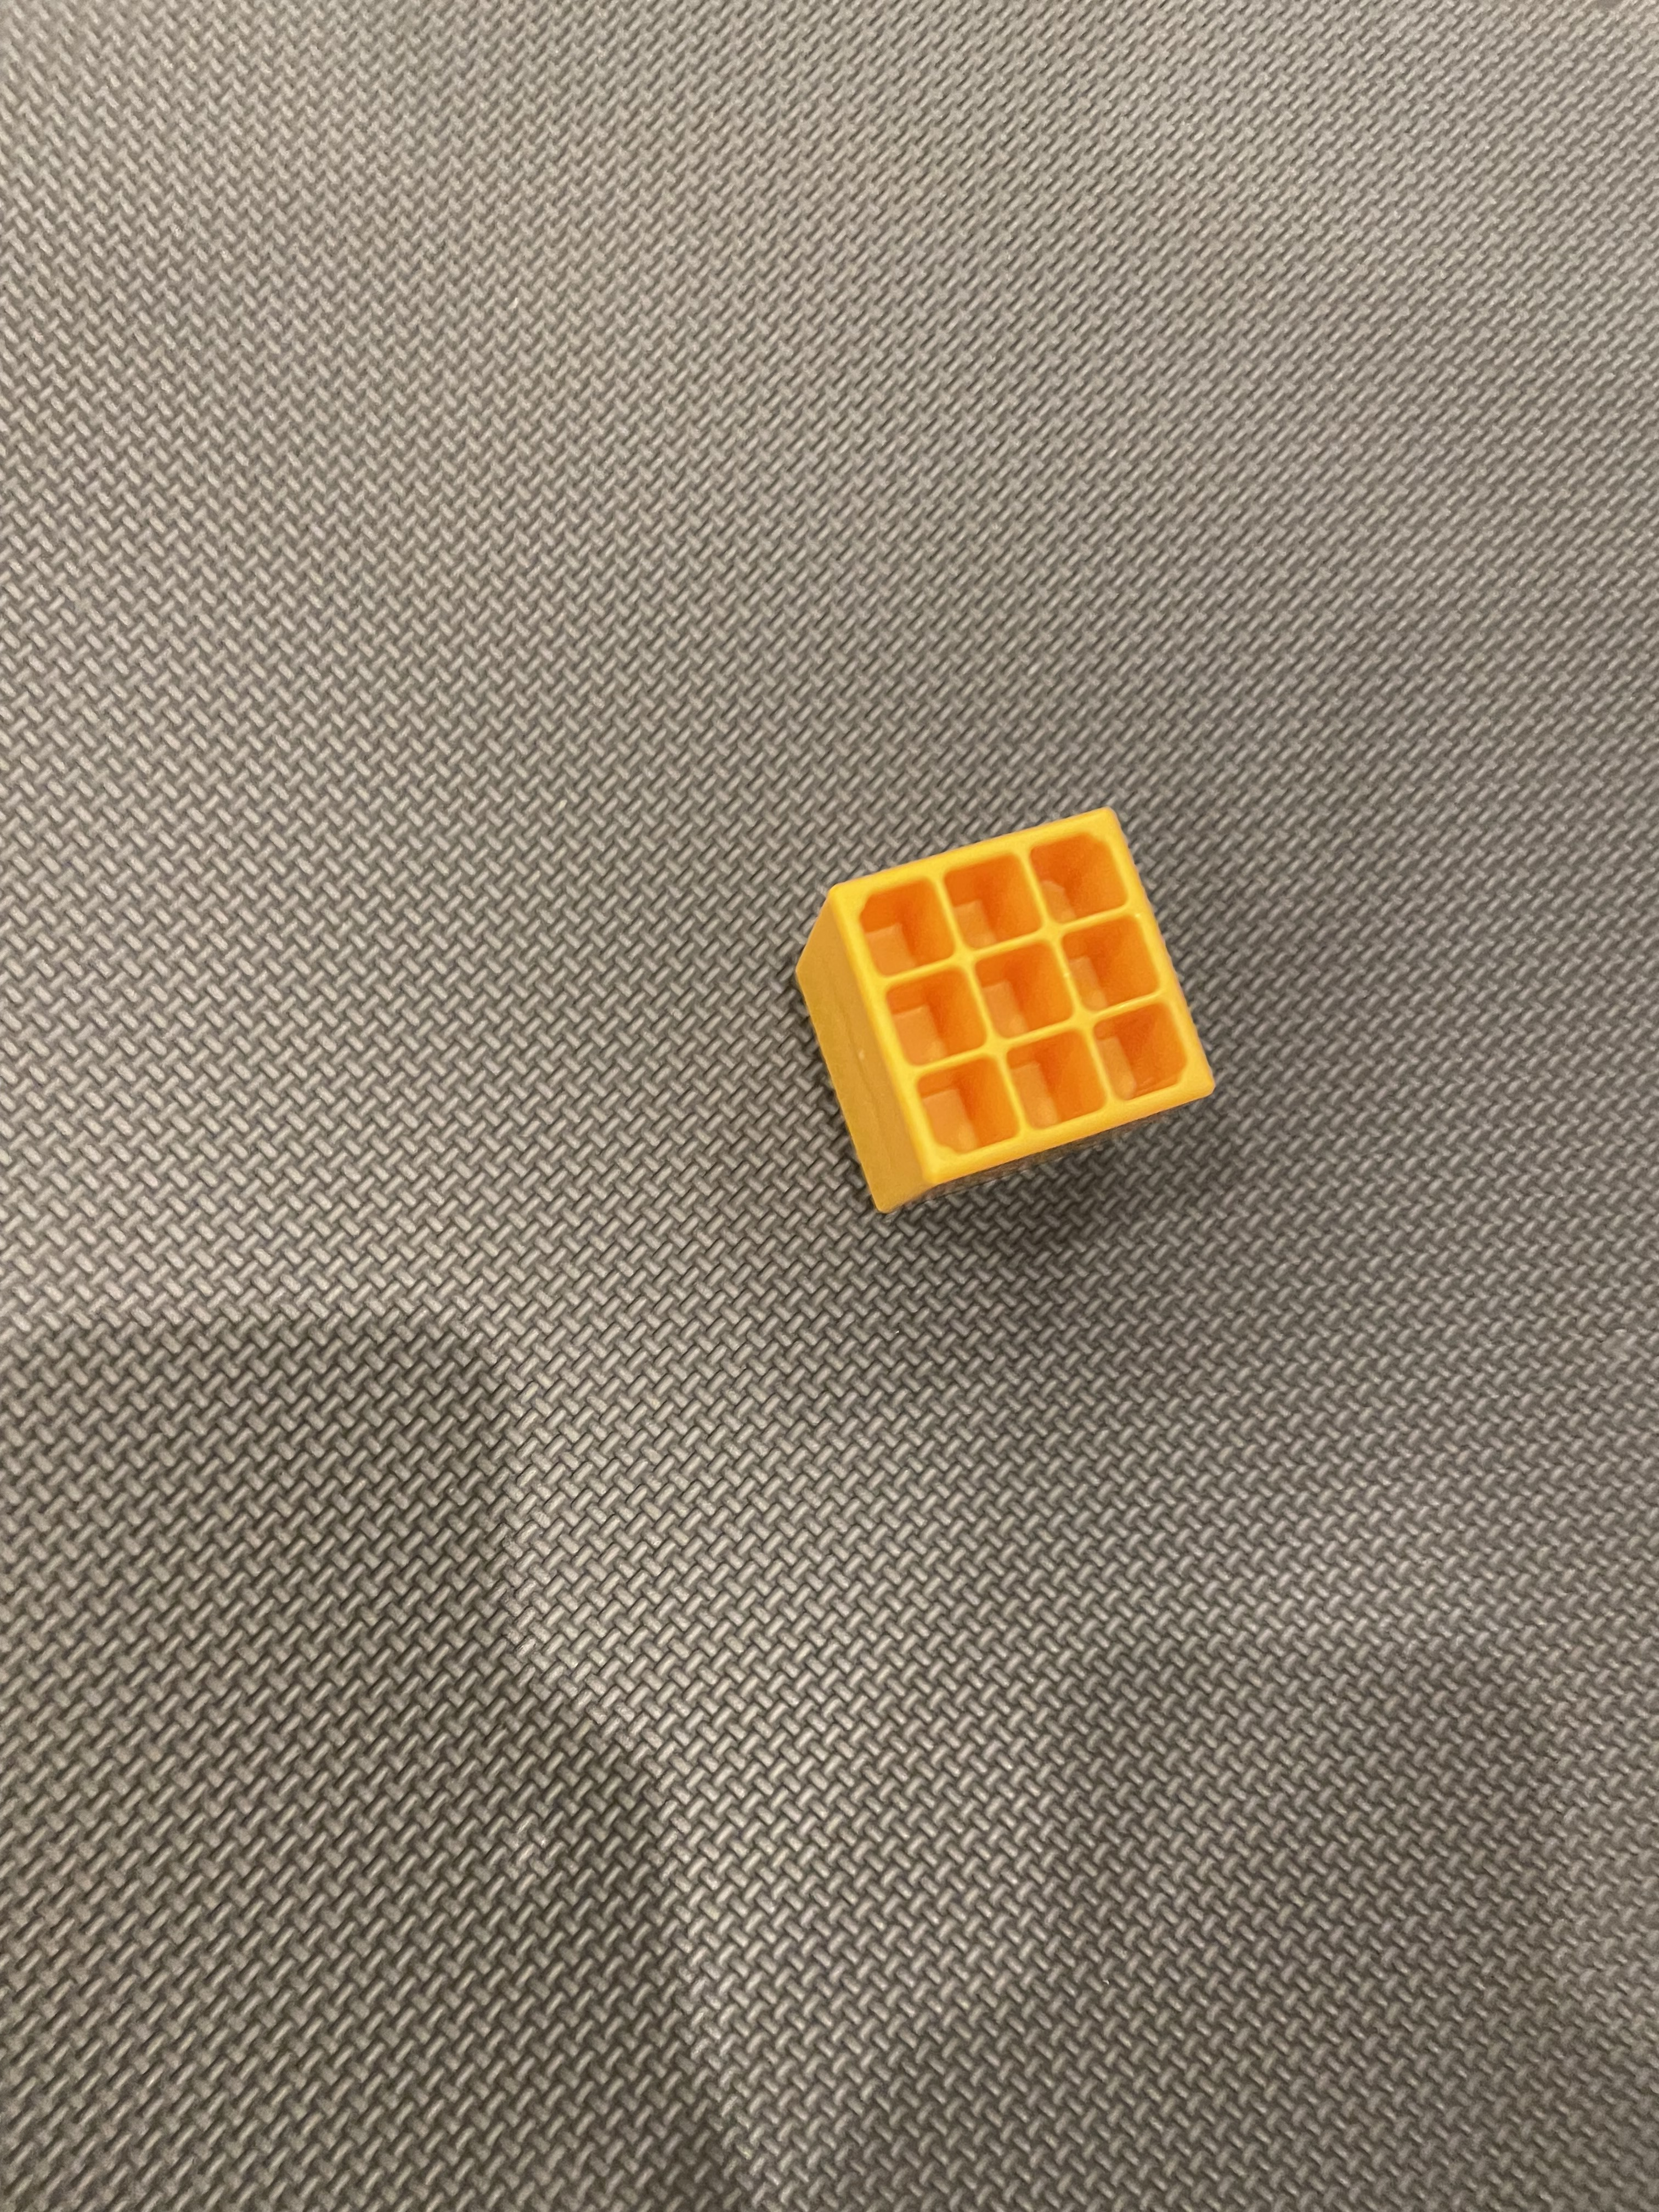cube: (741, 735, 1258, 1261)
